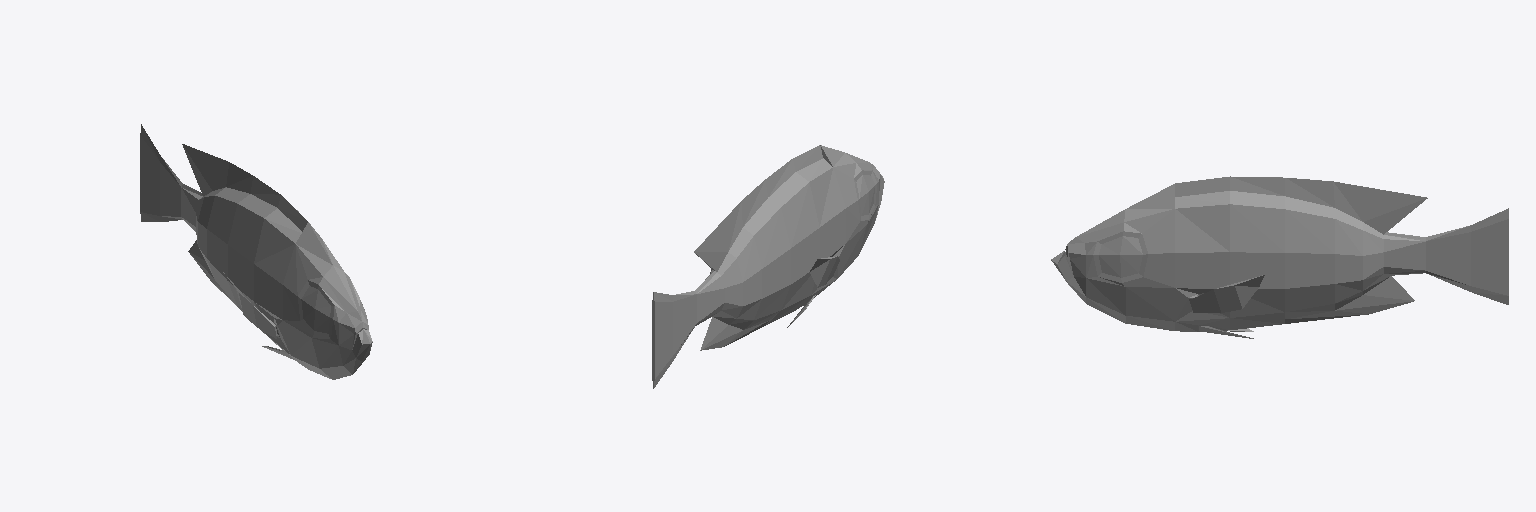
File: redFish.obj
3 renders of one model, left to right at view 1: azimuth 30°, elevation 25°; view 2: azimuth 150°, elevation 25°; view 3: azimuth 270°, elevation 25°, orthographic.
Parts seen in each view (by area): view 1: fishV1_Sphere; view 2: fishV1_Sphere; view 3: fishV1_Sphere.
Part boxes in pixels (x1,y1,x2,y2): fishV1_Sphere: (140, 124, 372, 379); fishV1_Sphere: (652, 145, 884, 388); fishV1_Sphere: (1051, 176, 1508, 338).
Size of the model in its own units: 0.2911 by 0.5247 by 1.37.